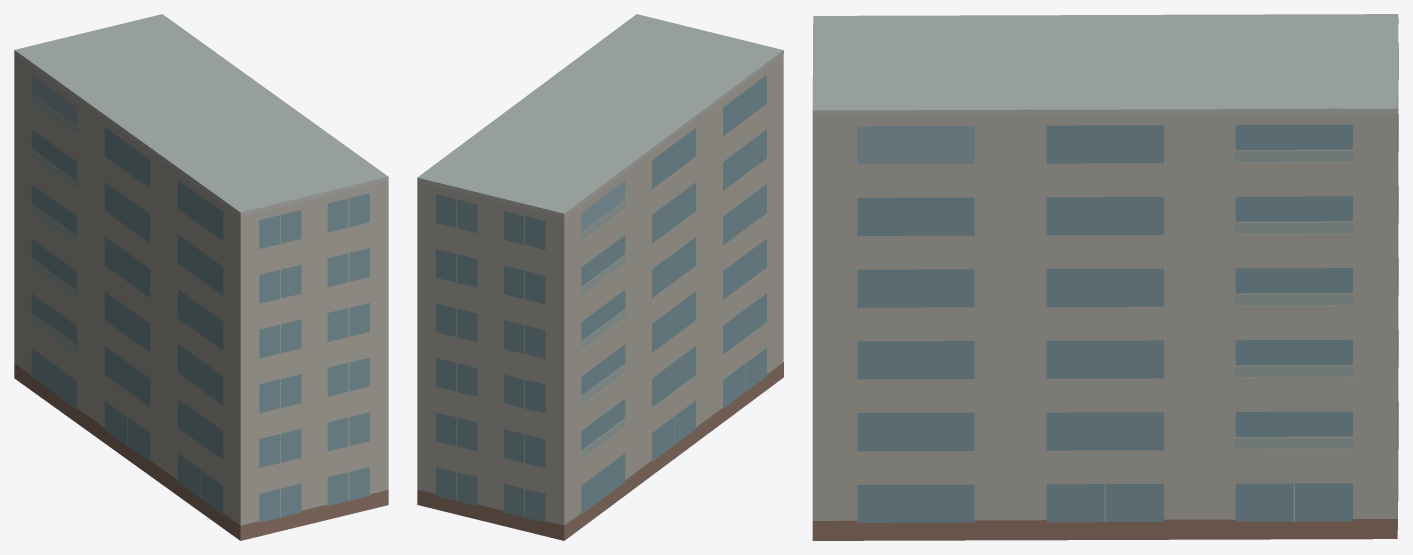
The model's file is survey-upis-32736773.glb.
The picture shows the model from 3 angles, left to right: view 1: azimuth 30°, elevation 25°; view 2: azimuth 150°, elevation 25°; view 3: azimuth 270°, elevation 25°; orthographic projection. The views are drawn at different scales.
Visible parts, largest first — view 1: survey-upis-32736773.tmp; view 2: survey-upis-32736773.tmp; view 3: survey-upis-32736773.tmp.
Part boxes in pixels (bbox=[...]): survey-upis-32736773.tmp: bbox=[14, 14, 388, 540]; survey-upis-32736773.tmp: bbox=[417, 14, 783, 540]; survey-upis-32736773.tmp: bbox=[812, 14, 1398, 540].
Bounding box in the file's own units: 9.16 × 19 × 23.45.
